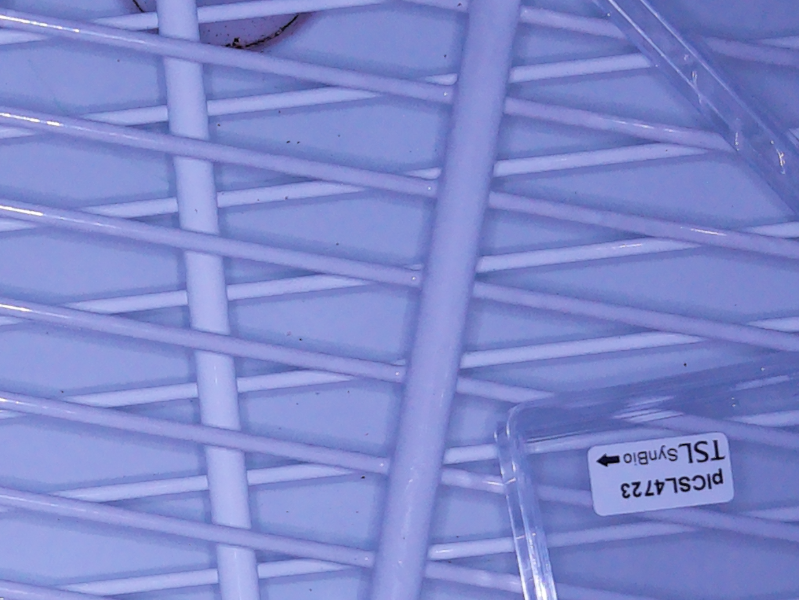plate: (498, 350, 799, 600), (588, 1, 799, 217)
